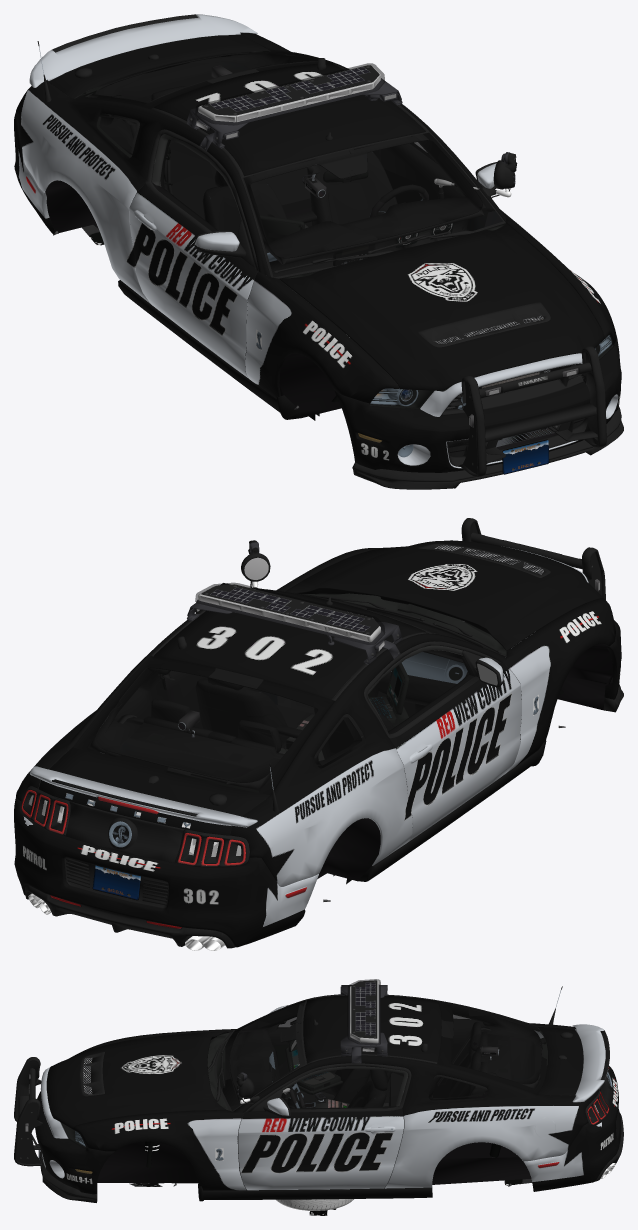
Rendered from shelby_patrol_13_rig.glb.
The picture shows the model from 3 angles, top to bottom: view 1: azimuth 30°, elevation 25°; view 2: azimuth 150°, elevation 25°; view 3: azimuth 270°, elevation 25°; orthographic projection. The views are drawn at different scales.
Parts seen in each view (by area): view 1: Body_Mesh; view 2: Body_Mesh; view 3: Body_Mesh, Wheel_RR_Mesh.
Boxes of the visible parts, x1,y1,x2,y2 form: Body_Mesh: (14,14,623,489); Body_Mesh: (14,518,623,950); Body_Mesh: (14,979,623,1202); Wheel_RR_Mesh: (276,1199,353,1210).
Size of the model in its own units: 1.96 by 1.76 by 4.79.
22 materials, 14 textured.
